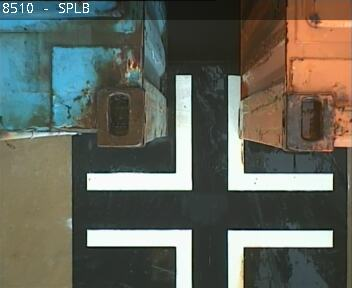groundmarker_1: (86, 76, 333, 192), (86, 229, 333, 288)
